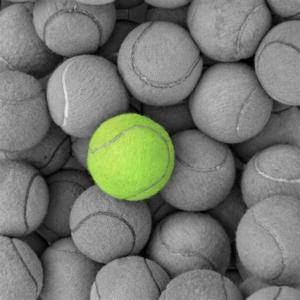Tennis: (85, 105, 176, 206)
